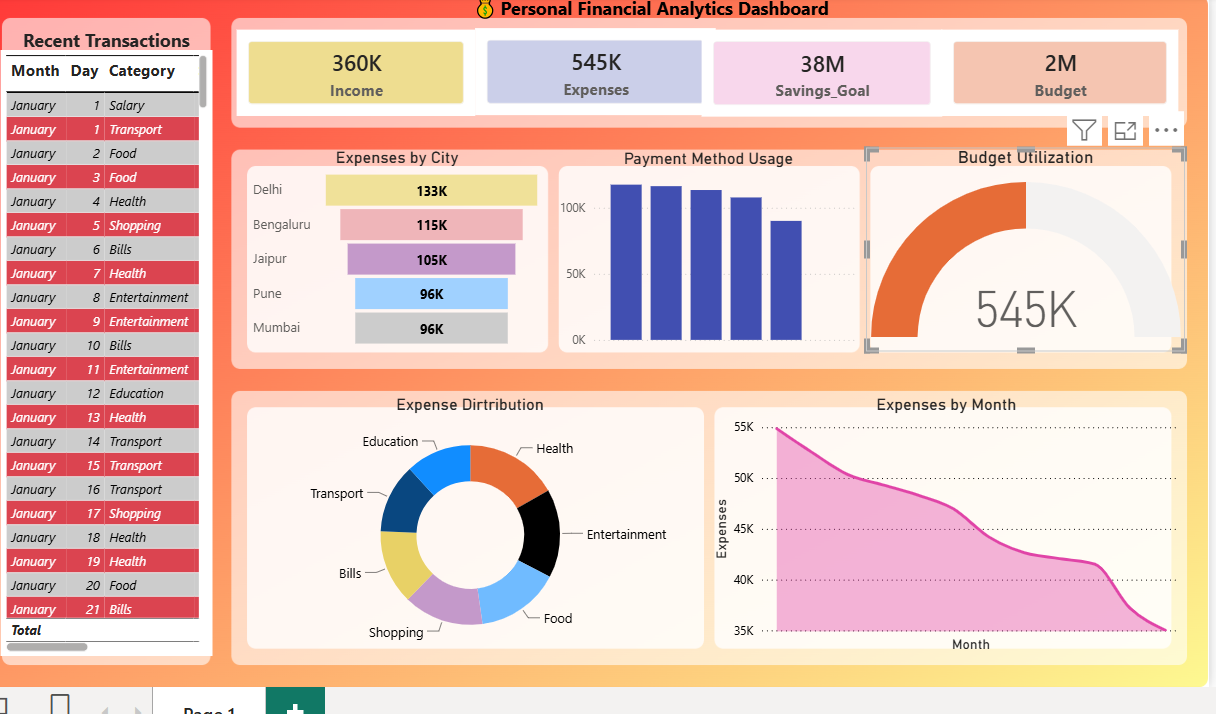

The page's visual inventory and layout, read from the dashboard file:
{"tool":"powerbi","page":{"name":"Page 1","canvas":[1280,720],"ordinal":0},"visuals":[{"type":"cardVisual","fields":{"Data":["Sum(Personal_Finance_Advanced_Dataset.Income)"]},"box":[261,29.7,259.5,100],"z":0},{"type":"textbox","box":[509.5,0,497,56.3],"z":1000},{"type":"cardVisual","fields":{"Data":["Sum(Personal_Finance_Advanced_Dataset.Budget)"]},"box":[995.6,29.7,257.9,100],"z":2000},{"type":"donutChart","title":" Expense Dirtribution","fields":{"Category":["Personal_Finance_Advanced_Dataset.Category"],"Y":["Sum(Personal_Finance_Advanced_Dataset.Expense)"]},"box":[261,415.8,497,272],"z":3000},{"type":"lineChart","fields":{"Category":["Personal_Finance_Advanced_Dataset.Month"],"Y":["Sum(Personal_Finance_Advanced_Dataset.Expense)"]},"box":[758,415.8,495.5,272],"z":4000},{"type":"gauge","title":"Budget Utilization","fields":{"Y":["Sum(Personal_Finance_Advanced_Dataset.Expense)"],"TargetValue":["Sum(Personal_Finance_Advanced_Dataset.Budget)"]},"box":[922.2,157.9,332.9,212.6],"z":5000},{"type":"tableEx","fields":{"Values":["Personal_Finance_Advanced_Dataset.Date.Variation.Date Hierarchy.Month","Personal_Finance_Advanced_Dataset.Date.Variation.Date Hierarchy.Day","Personal_Finance_Advanced_Dataset.Category","Sum(Personal_Finance_Advanced_Dataset.Expense)","Personal_Finance_Advanced_Dataset.Payment_Method"]},"box":[20.3,56.3,220.4,631.4],"z":6000},{"type":"textbox","box":[0,28.1,261,46.9],"z":7000},{"type":"funnel","title":" Expenses by City","fields":{"Y":["Sum(Personal_Finance_Advanced_Dataset.Expense)"],"Category":["Personal_Finance_Advanced_Dataset.City"]},"box":[278.2,157.9,311,212.6],"z":8000},{"type":"clusteredColumnChart","title":"Payment Method Usage","fields":{"Category":["Personal_Finance_Advanced_Dataset.Payment_Method"],"Y":["Sum(Personal_Finance_Advanced_Dataset.Expense)"]},"box":[597.1,159.4,322,212.6],"z":9000},{"type":"cardVisual","fields":{"Data":["Sum(Personal_Finance_Advanced_Dataset.Expense)"]},"box":[509.5,28.1,261,101.6],"z":10000},{"type":"cardVisual","fields":{"Data":["Sum(Personal_Finance_Advanced_Dataset.Savings_Goal)"]},"box":[745.5,29.7,261,101.6],"z":11000}]}

Visuals, with their boxes on the page's 1280x720 design canvas (x1, y1, x2, y2). These are canvas units, not pixel positions in the 1216x714 screenshot, which may show the page scaled, cropped or inside an application window:
cardVisual - Sum(Personal_Finance_Advanced_Dataset.Income): <region>261, 30, 520, 130</region>
textbox: <region>510, 0, 1006, 56</region>
cardVisual - Sum(Personal_Finance_Advanced_Dataset.Budget): <region>996, 30, 1254, 130</region>
" Expense Dirtribution" donutChart: <region>261, 416, 758, 688</region>
lineChart - Personal_Finance_Advanced_Dataset.Month x Sum(Personal_Finance_Advanced_Dataset.Expense): <region>758, 416, 1254, 688</region>
"Budget Utilization" gauge: <region>922, 158, 1255, 370</region>
tableEx - Personal_Finance_Advanced_Dataset.Date.Variation.Date Hierarchy.Month x Personal_Finance_Advanced_Dataset.Date.Variation.Date Hierarchy.Day: <region>20, 56, 241, 688</region>
textbox: <region>0, 28, 261, 75</region>
" Expenses by City" funnel: <region>278, 158, 589, 370</region>
"Payment Method Usage" clusteredColumnChart: <region>597, 159, 919, 372</region>
cardVisual - Sum(Personal_Finance_Advanced_Dataset.Expense): <region>510, 28, 770, 130</region>
cardVisual - Sum(Personal_Finance_Advanced_Dataset.Savings_Goal): <region>746, 30, 1006, 131</region>
